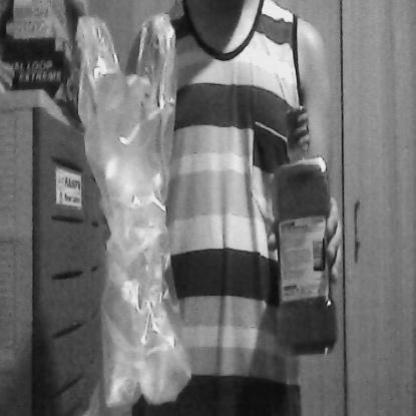Plastic Bottle: (259, 94, 342, 371)
